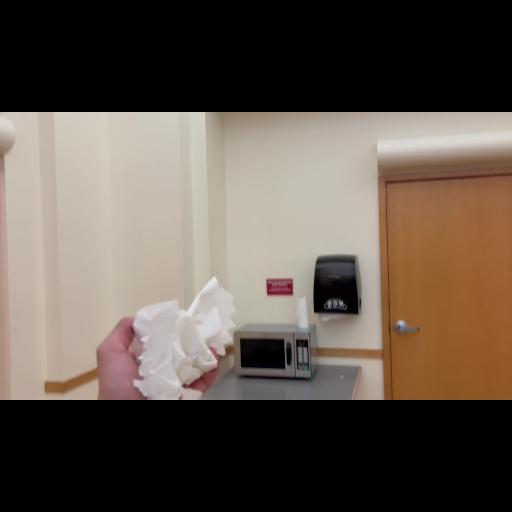napkin: (120, 274, 238, 400)
